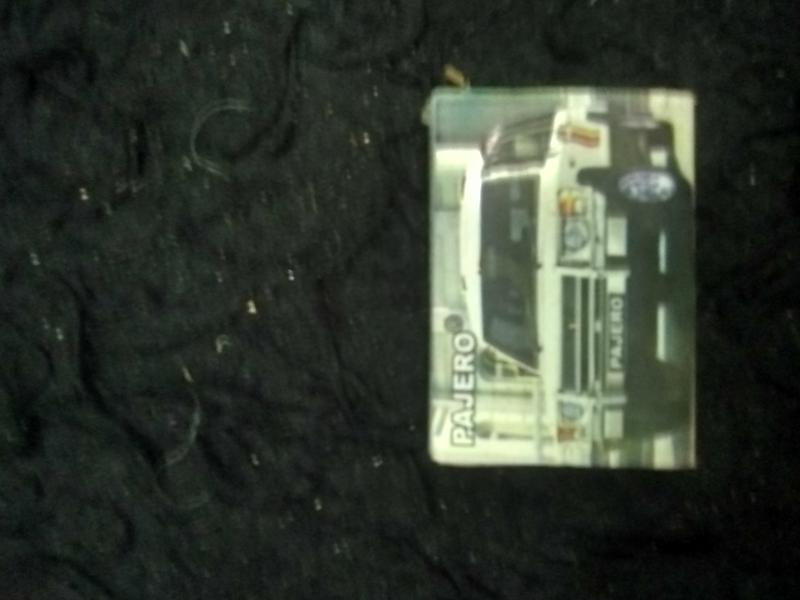pajero: (428, 86, 696, 469)
